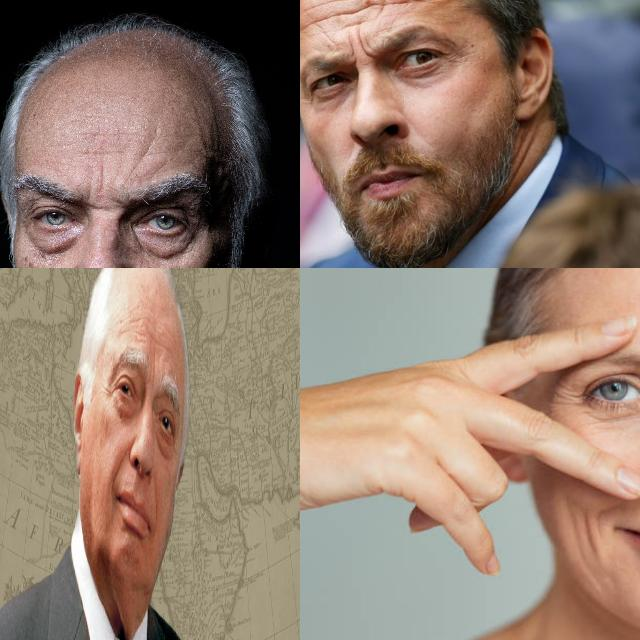crows_feet: (554, 382, 586, 418), (105, 376, 117, 404)
forehead: (132, 134, 170, 172), (348, 0, 377, 29), (301, 12, 343, 30), (382, 0, 426, 11), (303, 0, 343, 8), (135, 325, 146, 346)
frown_line: (88, 168, 114, 210), (347, 35, 373, 63), (152, 342, 156, 387)
gummy_smile: (112, 442, 125, 487), (152, 485, 160, 546)
masseter: (572, 507, 600, 565)
